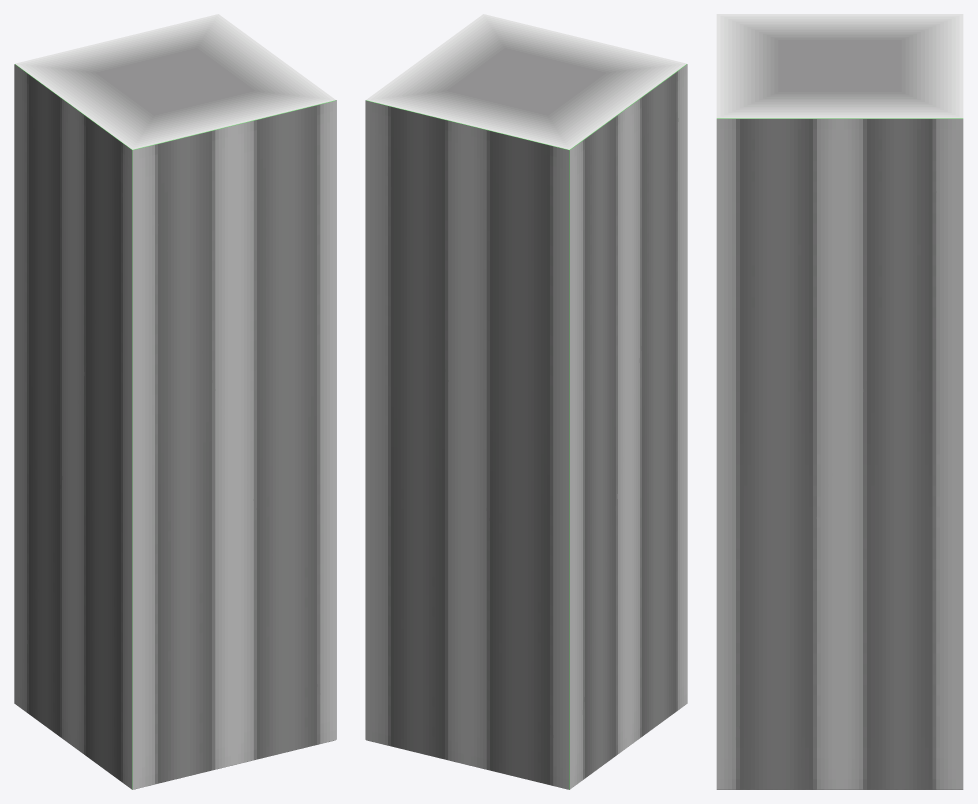
The model's file is stasisfield.obj.
3 renders of one model, left to right at view 1: azimuth 30°, elevation 25°; view 2: azimuth 150°, elevation 25°; view 3: azimuth 270°, elevation 25°, orthographic. The views are drawn at different scales.
Visible parts, largest first — view 1: Stasisfield4, Stasisfield2, Stasisfield7, Stasisfield1, Stasisfield3; view 2: Stasisfield5, Stasisfield2, Stasisfield7, Stasisfield1, Stasisfield3; view 3: Stasisfield3, Stasisfield7.
Boxes of the visible parts, <box> form: Stasisfield4: <box>132,101,336,789</box>; Stasisfield2: <box>14,64,131,789</box>; Stasisfield7: <box>15,14,335,149</box>; Stasisfield1: <box>15,64,335,789</box>; Stasisfield3: <box>336,100,336,739</box>; Stasisfield5: <box>365,101,569,789</box>; Stasisfield2: <box>570,64,687,789</box>; Stasisfield7: <box>366,14,686,149</box>; Stasisfield1: <box>366,64,686,789</box>; Stasisfield3: <box>365,100,365,739</box>; Stasisfield3: <box>716,119,963,789</box>; Stasisfield7: <box>716,14,963,118</box>.
Size of the model in its own units: 10.04 by 30.04 by 10.04.
5 materials, 4 textured.
